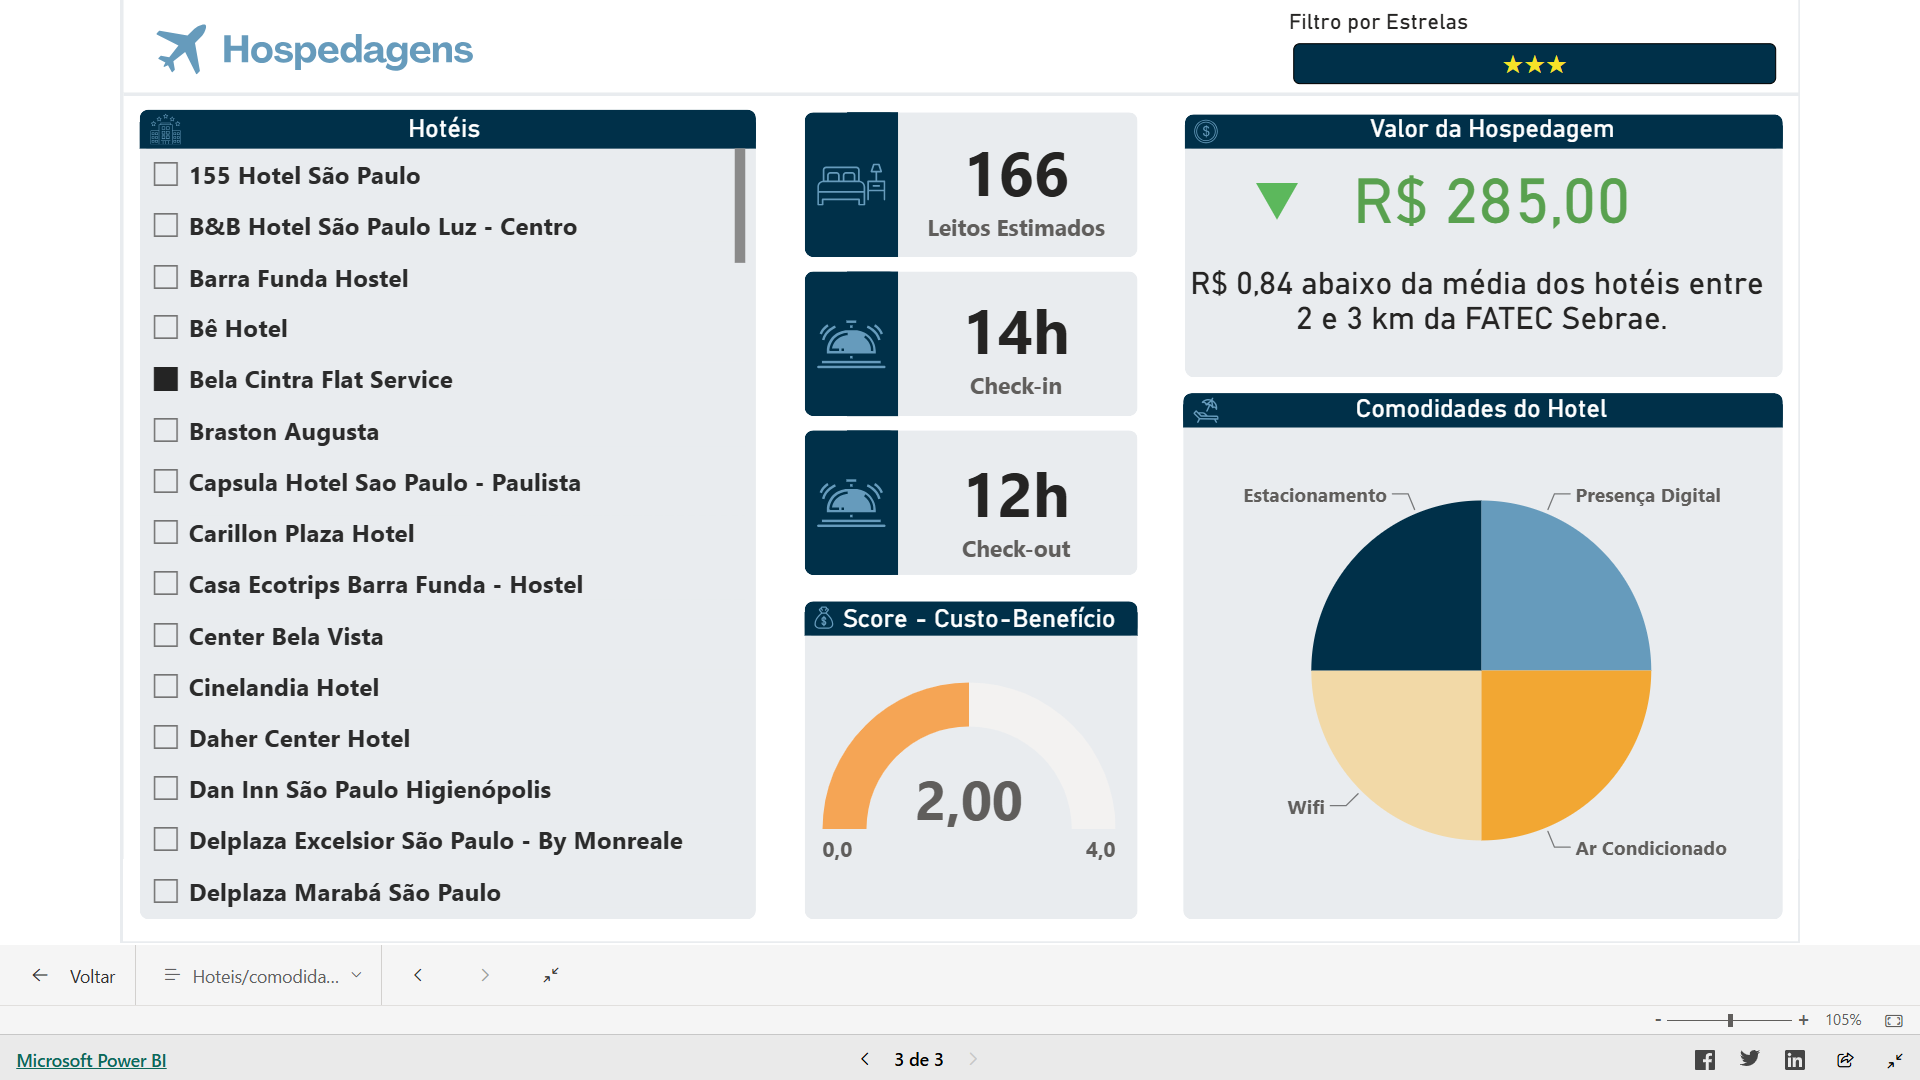

This screenshot's page, from the dashboard's own definition file:
{"tool":"powerbi","page":{"name":"Hoteis/comodidades","canvas":[1280,720],"ordinal":2},"visuals":[{"type":"slicer","title":"Hotéis","fields":{"Values":["Hoteis_FATECSEBRAE.Nome do Hotel"]},"box":[12.5,86.4,469.3,615.9],"z":0},{"type":"pieChart","title":"Comodidades do Hotel","fields":{"Y":["Sum(Hoteis_FATECSEBRAE.Presenca_Digital_OTAs)","Sum(Hoteis_FATECSEBRAE.Ar_condicionado)","Sum(Hoteis_FATECSEBRAE.Caf_manha)","Sum(Hoteis_FATECSEBRAE.Wi_fi)","Sum(Hoteis_FATECSEBRAE.estacionamento)","Sum(Hoteis_FATECSEBRAE.piscina)","Sum(Hoteis_FATECSEBRAE.restaurante_Bar)","Sum(Hoteis_FATECSEBRAE.Aceita_Pets)","Sum(Hoteis_FATECSEBRAE.acessível_PCD)","Sum(Hoteis_FATECSEBRAE.academia)"]},"box":[809.1,300,455.7,402.3],"z":1000},{"type":"card","fields":{"Values":["Sum(Hoteis_FATECSEBRAE.Leitos_Estimados)"]},"box":[592.2,86.7,181.1,108.9],"z":2000},{"type":"card","fields":{"Values":["Min(Hoteis_FATECSEBRAE.Check-in)"]},"box":[592.2,207.8,181.1,108.9],"z":3000},{"type":"card","fields":{"Values":["Min(Hoteis_FATECSEBRAE.Check-out)"]},"box":[592.2,331.1,181.1,108.9],"z":4000},{"type":"card","fields":{"Values":["Hoteis_FATECSEBRAE.Resumo_Preço_Faixa_Completo"]},"box":[809.1,169.3,455.7,117],"z":5000},{"type":"card","title":"Valor da Hospedagem","fields":{"Values":["Sum(Hoteis_FATECSEBRAE.Preço Médio da Diária (R$))"]},"box":[826.7,86.7,437.8,100],"z":6000},{"type":"gauge","title":"Score - Custo-Benefício","fields":{"Y":["Hoteis_FATECSEBRAE.CB_Score"]},"box":[520.5,460.2,253.4,242],"z":8000},{"type":"ChicletSlicer1448559807354","title":"Filtro por Estrelas","fields":{"Category":["Hoteis_FATECSEBRAE.Estrelas teste"]},"box":[885.6,5.6,383.3,74.4],"z":9000},{"type":"htmlContent443BE3AD55E043BF878BED274D3A6855","fields":{"content":["Hoteis_FATECSEBRAE.Seta_Visual_CSS_Grande"]},"box":[861.1,134.4,47.8,52.2],"z":11000}]}

Visuals, with their boxes on the page's 1280x720 design canvas (x1, y1, x2, y2). These are canvas units, not pixel positions in the 1920x1080 screenshot, which may show the page scaled, cropped or inside an application window:
"Hotéis" slicer: BBox(12, 86, 482, 702)
"Comodidades do Hotel" pieChart: BBox(809, 300, 1265, 702)
card - Sum(Hoteis_FATECSEBRAE.Leitos_Estimados): BBox(592, 87, 773, 196)
card - Min(Hoteis_FATECSEBRAE.Check-in): BBox(592, 208, 773, 317)
card - Min(Hoteis_FATECSEBRAE.Check-out): BBox(592, 331, 773, 440)
card - Hoteis_FATECSEBRAE.Resumo_Preço_Faixa_Completo: BBox(809, 169, 1265, 286)
"Valor da Hospedagem" card: BBox(827, 87, 1264, 187)
"Score - Custo-Benefício" gauge: BBox(520, 460, 774, 702)
"Filtro por Estrelas" ChicletSlicer1448559807354: BBox(886, 6, 1269, 80)
htmlContent443BE3AD55E043BF878BED274D3A6855 - Hoteis_FATECSEBRAE.Seta_Visual_CSS_Grande: BBox(861, 134, 909, 187)
